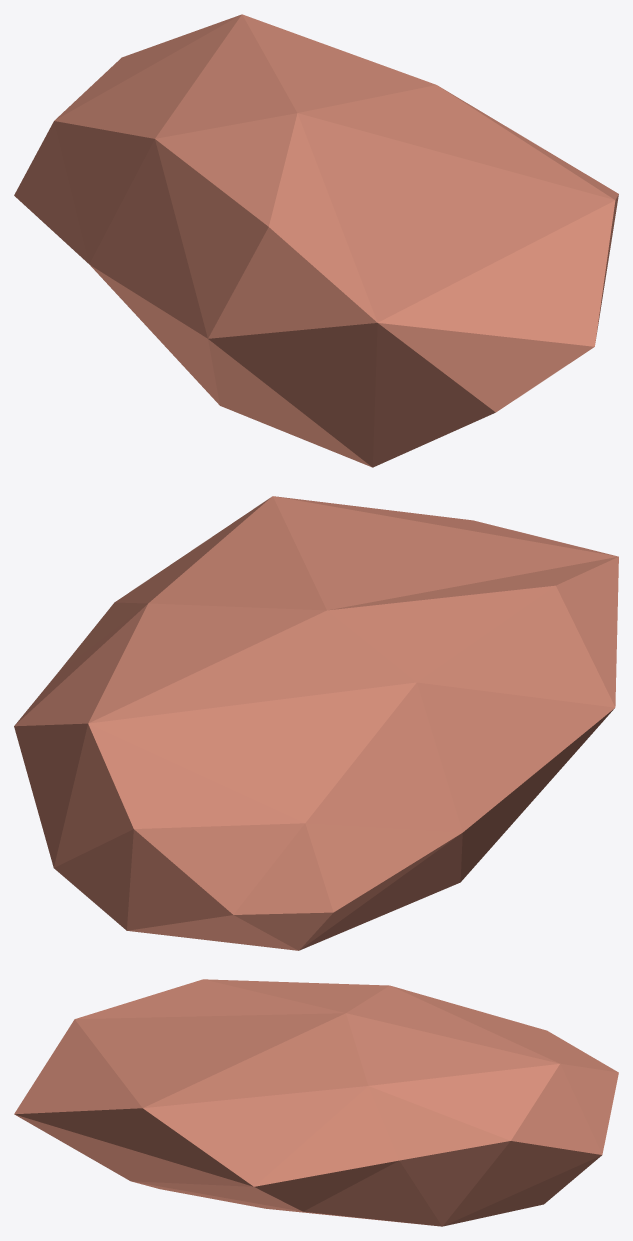
Rendered from stone_001.fbx.
3 views of the same model, one above another, from view 1: azimuth 30°, elevation 25°; view 2: azimuth 150°, elevation 25°; view 3: azimuth 270°, elevation 25° (orthographic). The views are drawn at different scales.
Visible parts, largest first — view 1: stone_001; view 2: stone_001; view 3: stone_001.
Part boxes in pixels (left/top/right/bottom): stone_001: left=14, top=14, right=618, bottom=467; stone_001: left=14, top=496, right=618, bottom=950; stone_001: left=14, top=979, right=618, bottom=1226.
Bounding box in the file's own units: 193 × 300 × 109.
